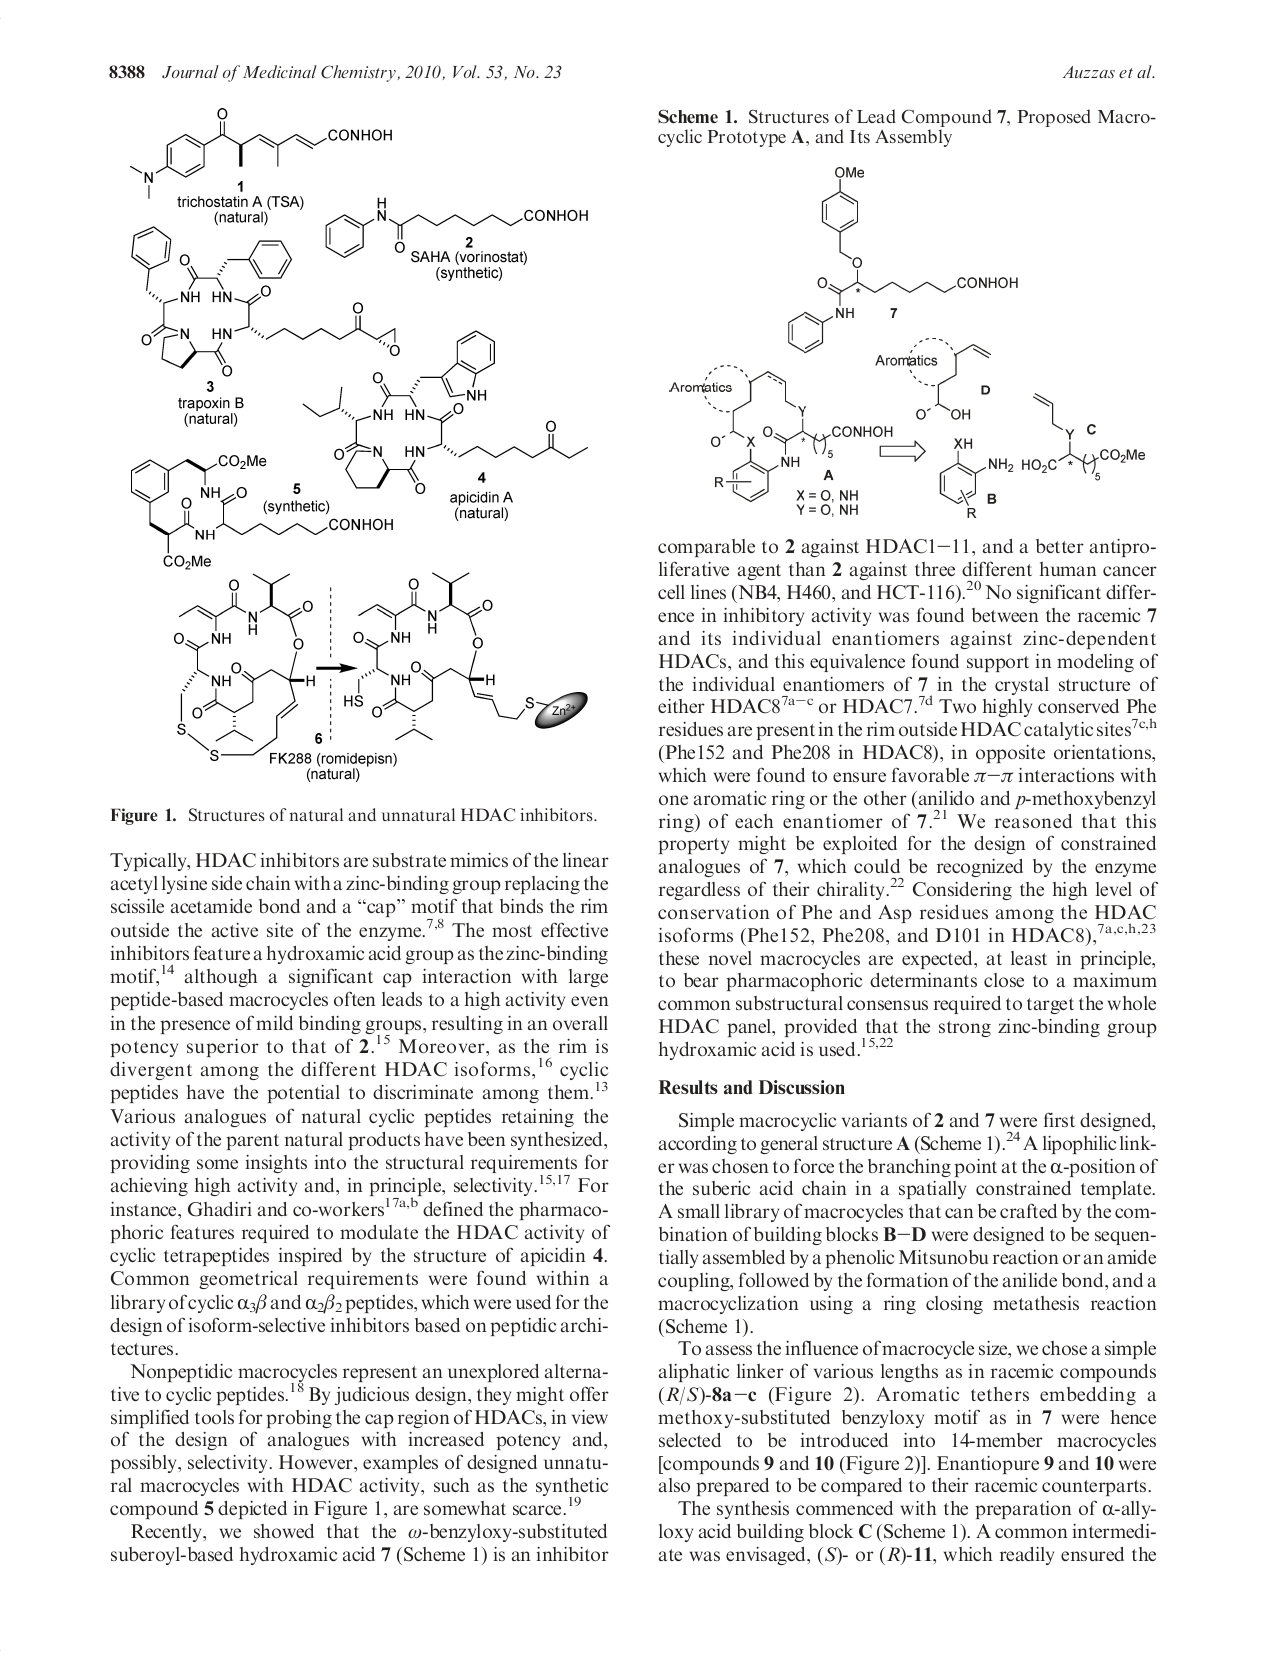exist_molecular: (874, 334, 1149, 521), (301, 328, 590, 493), (783, 164, 1021, 354), (340, 571, 578, 743), (132, 226, 402, 376), (668, 363, 896, 503), (128, 453, 395, 571), (173, 571, 318, 762), (130, 105, 395, 199), (322, 198, 590, 261)
